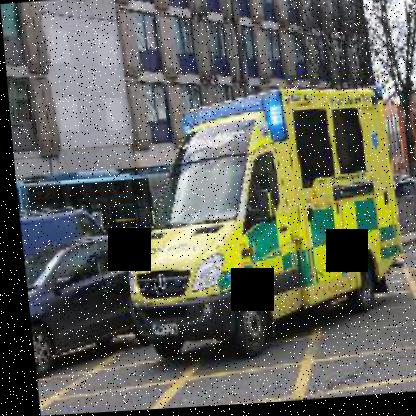emergency: (101, 81, 410, 373)
not_emergency: (18, 224, 152, 380)
